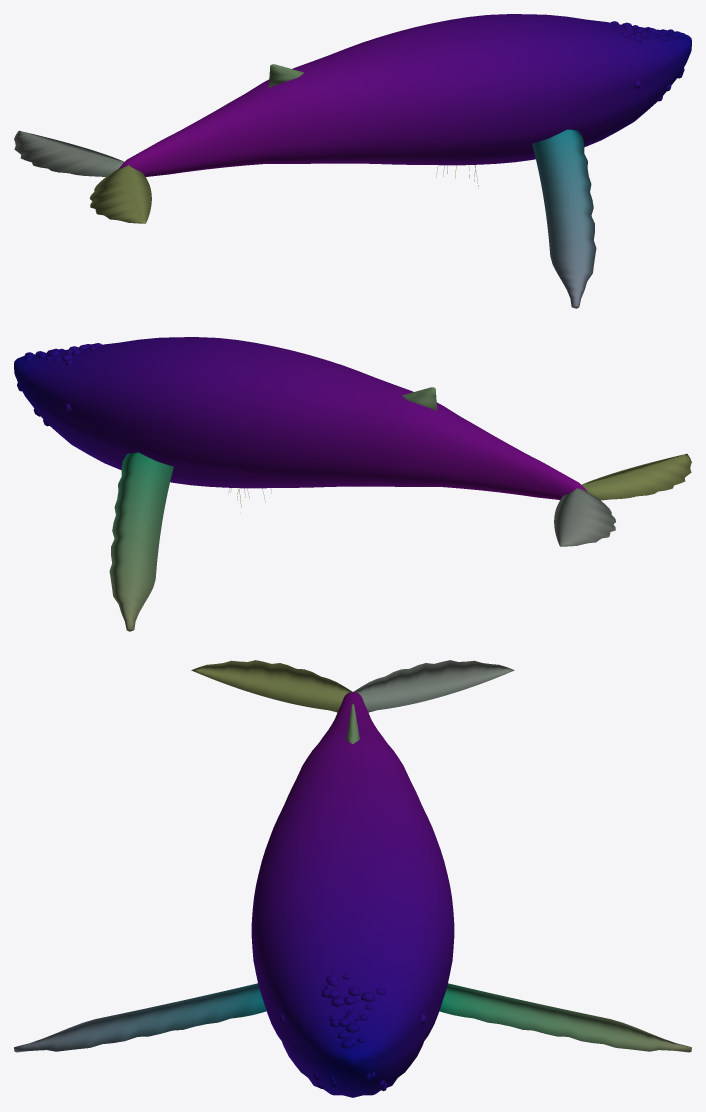
The model's file is creatures.glb.
3 views of the same model, one above another, from view 1: azimuth 30°, elevation 25°; view 2: azimuth 150°, elevation 25°; view 3: azimuth 270°, elevation 25° (orthographic). The views are drawn at different scales.
Parts seen in each view (by area): view 1: Whale; view 2: Whale; view 3: Whale.
Part boxes in pixels (<box>): Whale: <box>14,14,691,308</box>; Whale: <box>14,337,691,631</box>; Whale: <box>14,660,691,1097</box>.
Size of the model in its own units: 14.64 by 4.19 by 10.67.
